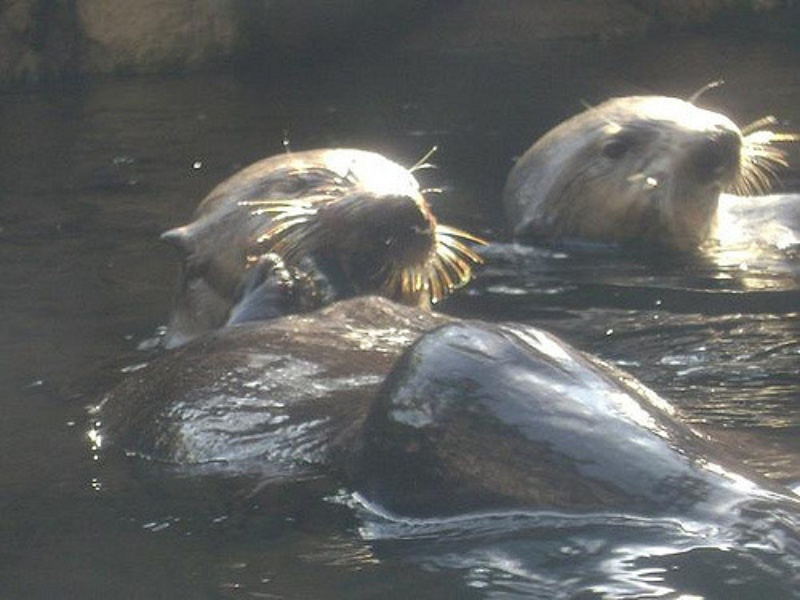minkish: (90, 137, 480, 540), (494, 77, 798, 280)
